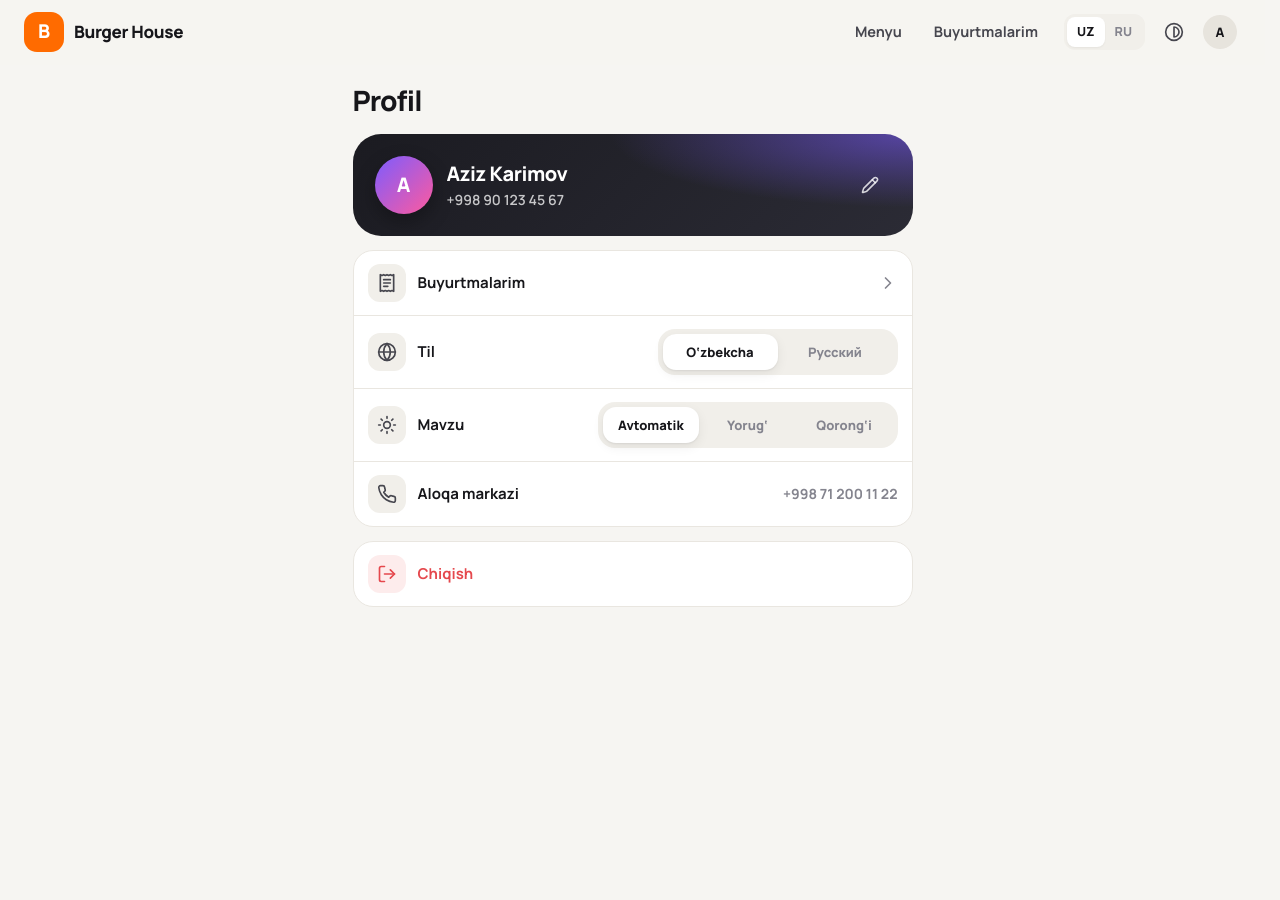
sign-in on the website › signs out from the profile
Expected: the heading "Aziz Karimov" is shown, [446,160,567,187]
Click the button "Chiqish".
click(386, 574)  # box [354,542,912,606]
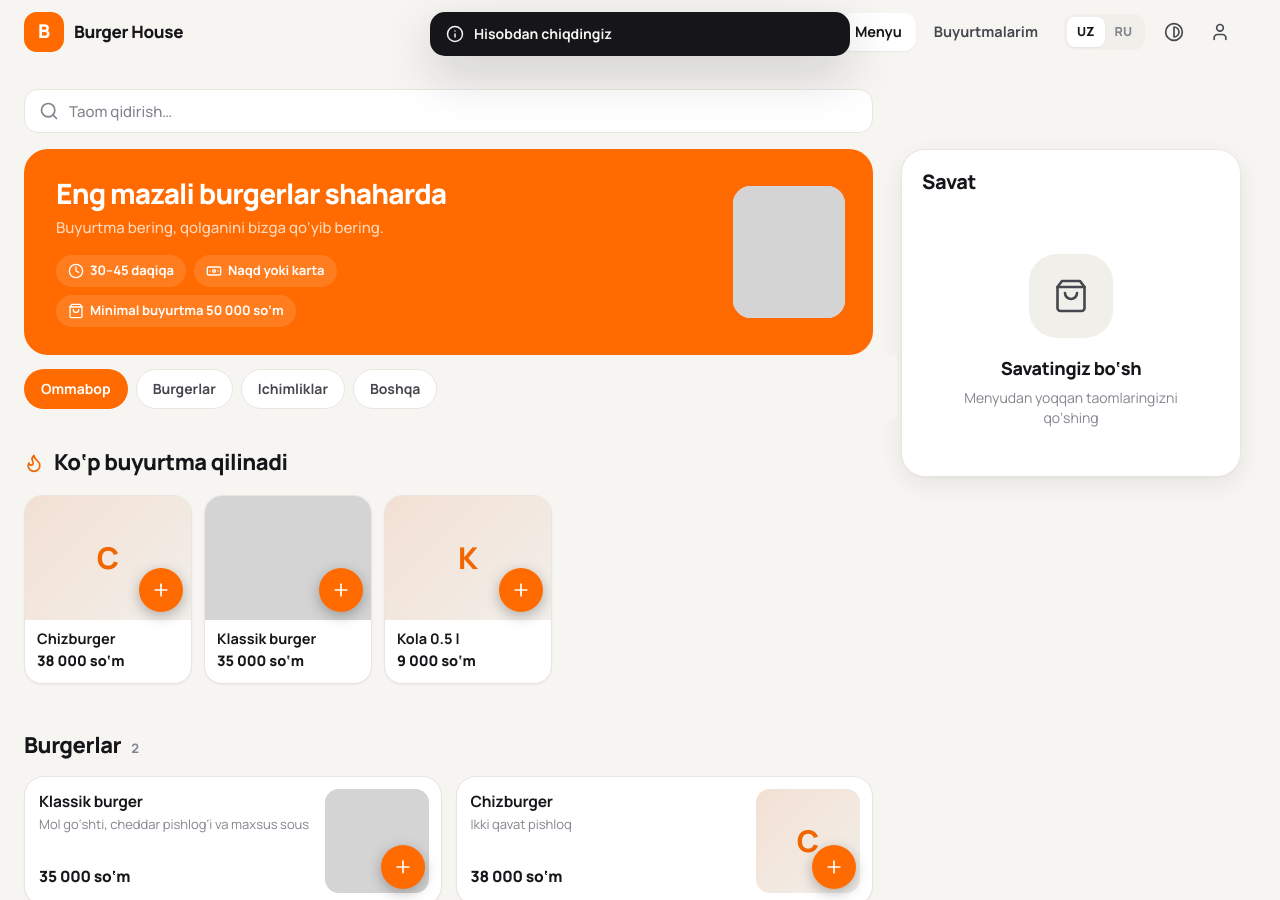
Expected: the text "Hisobdan chiqdingiz" is shown, [474,24,612,43]
